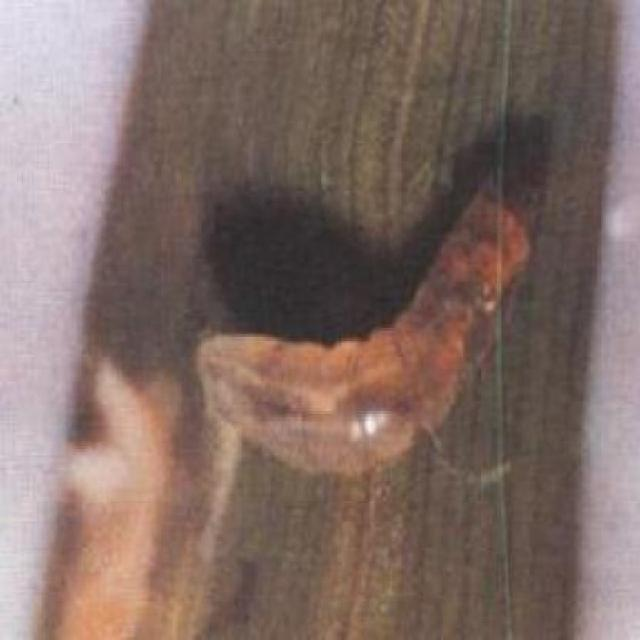whorl-maggot: (186, 187, 545, 485)
